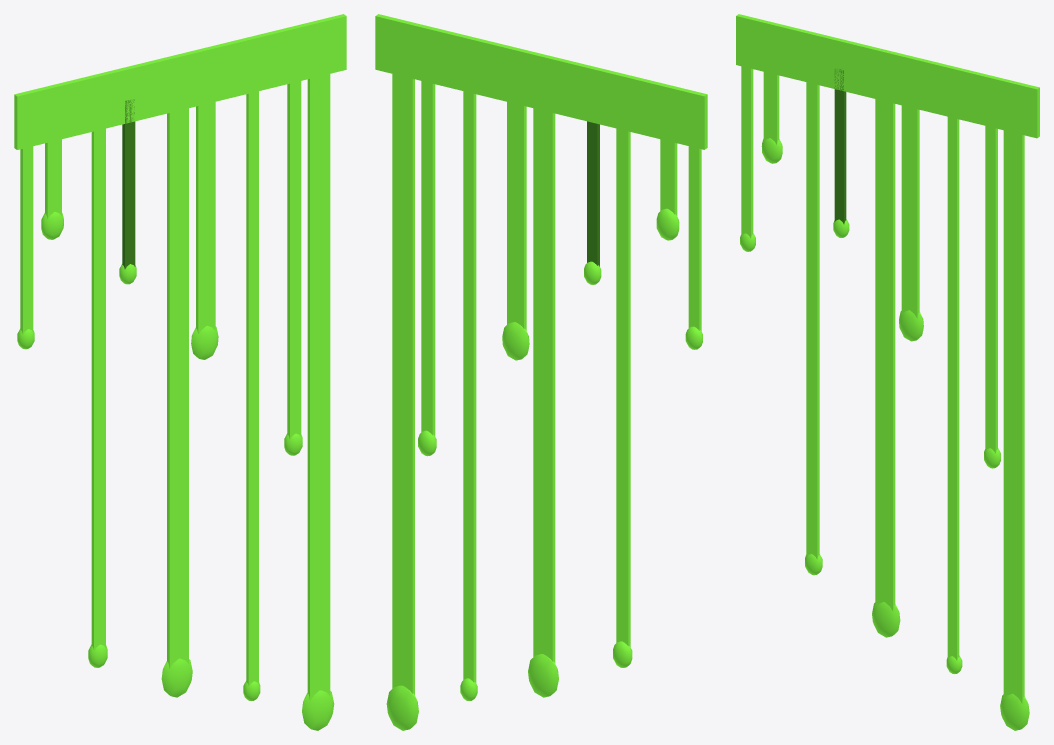
File: SM_80s_SlimeDrip.glb
The picture shows the model from 3 angles, left to right: view 1: azimuth 30°, elevation 25°; view 2: azimuth 150°, elevation 25°; view 3: azimuth 330°, elevation 25°; orthographic projection. The views are drawn at different scales.
Parts seen in each view (by area): view 1: SM_80s_SlimeDrip; view 2: SM_80s_SlimeDrip; view 3: SM_80s_SlimeDrip.
Boxes of the visible parts, bbox=[...] form: SM_80s_SlimeDrip: bbox=[14, 14, 346, 730]; SM_80s_SlimeDrip: bbox=[375, 14, 707, 730]; SM_80s_SlimeDrip: bbox=[736, 14, 1039, 730].
Bounding box in the file's own units: 0.9 × 1.85 × 0.036.
